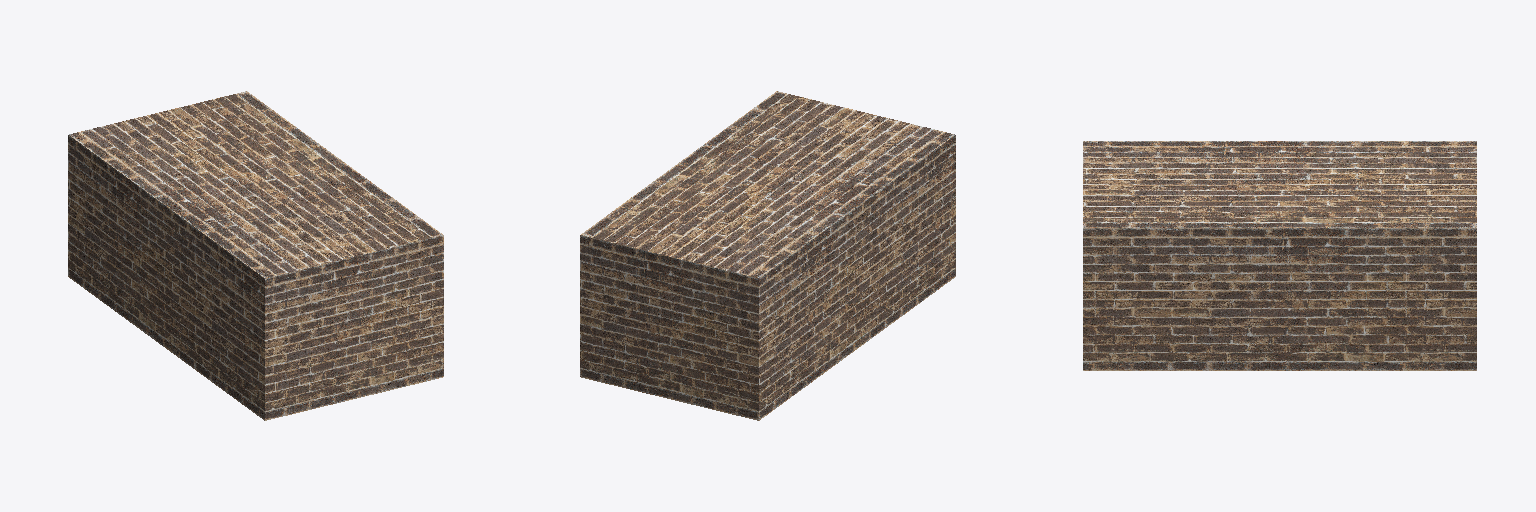
3 views of the same model, side by side, from view 1: azimuth 30°, elevation 25°; view 2: azimuth 150°, elevation 25°; view 3: azimuth 270°, elevation 25° (orthographic).
Parts seen in each view (by area): view 1: L_VertBackRight_Cube.011; view 2: L_VertBackRight_Cube.011; view 3: L_VertBackRight_Cube.011.
Part boxes in pixels (bbox=[...]): L_VertBackRight_Cube.011: bbox=[68, 91, 443, 420]; L_VertBackRight_Cube.011: bbox=[580, 91, 955, 420]; L_VertBackRight_Cube.011: bbox=[1083, 141, 1476, 370].
Size of the model in its own units: 10.49 by 8 by 20.01.
1 materials, 1 textured.